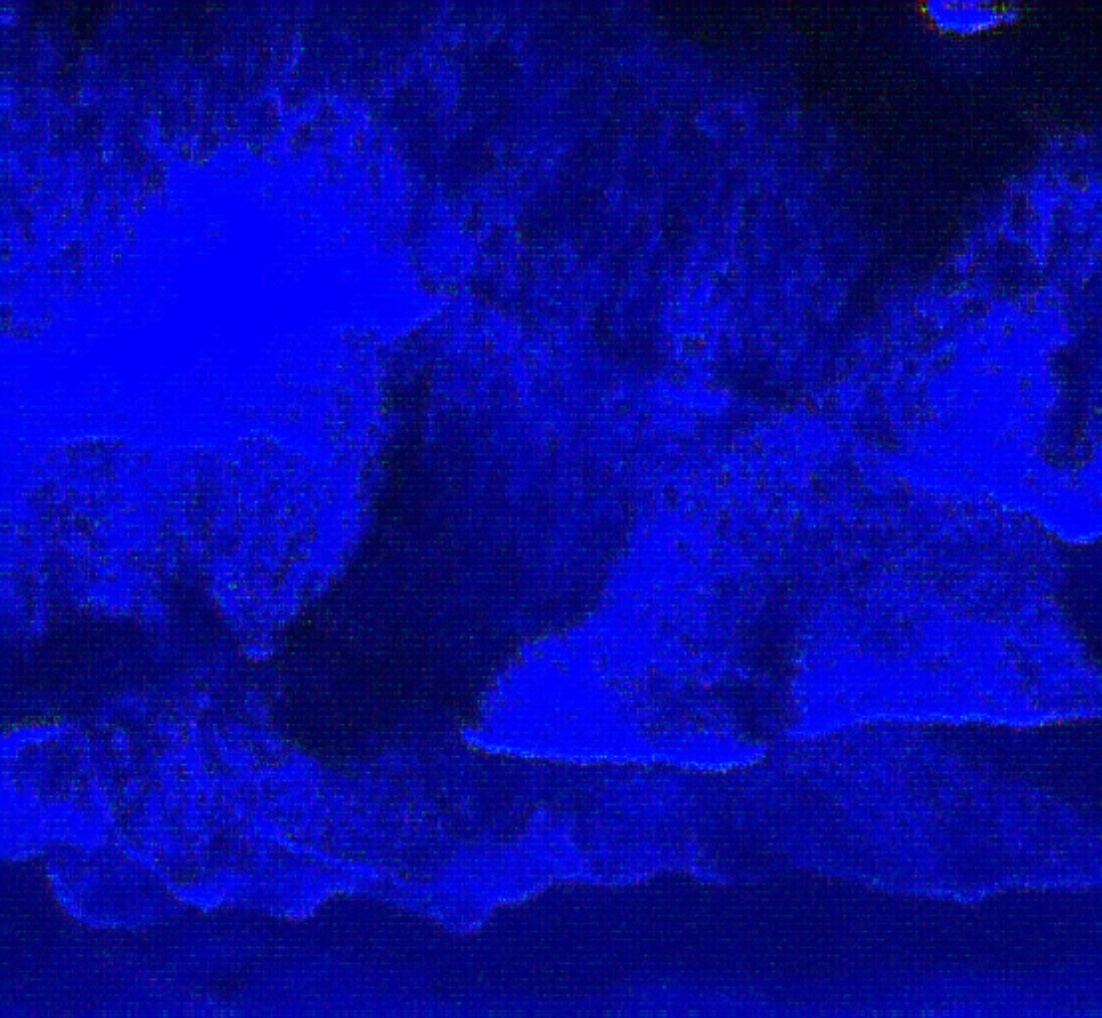rip_current: (229, 185, 715, 760)
